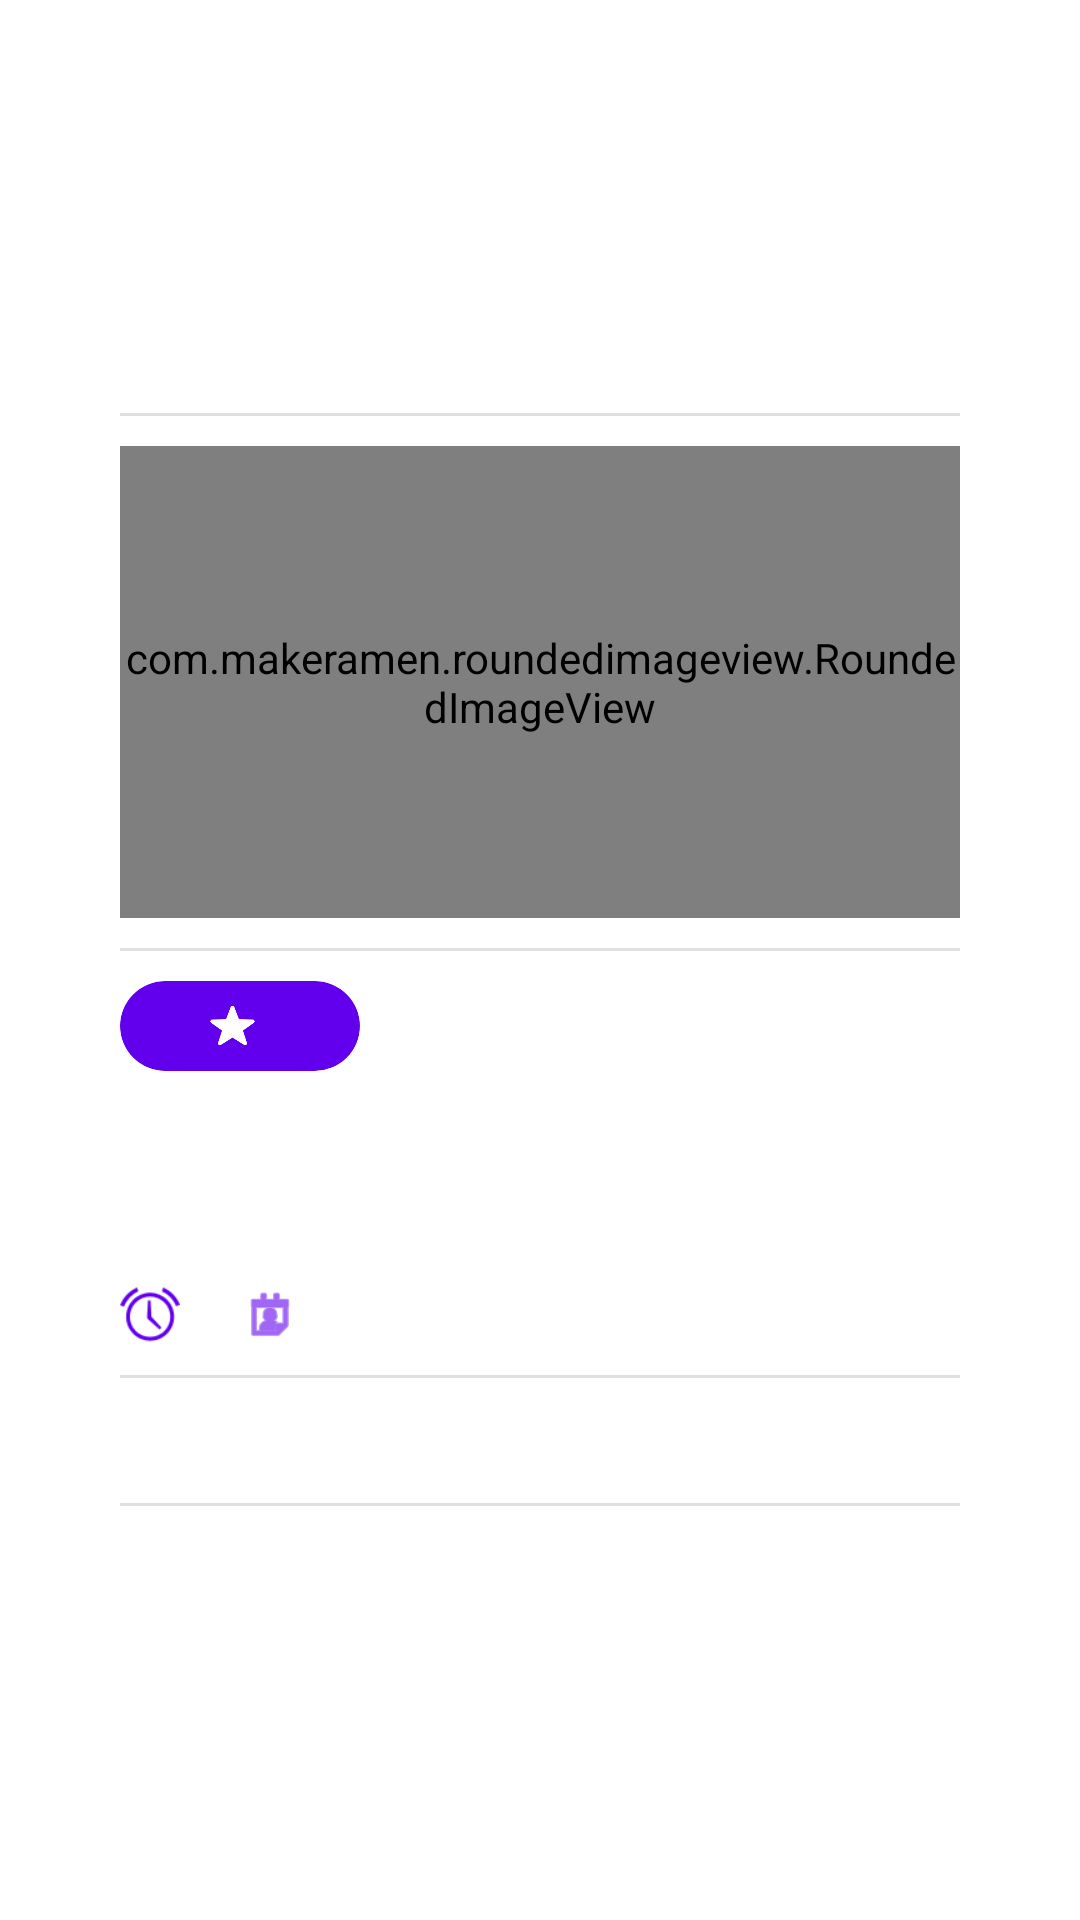

Screen size 1080 x 1920. Icon name, then its box in pixels as Rect(x1, y1, x2, y2):
calendar: Rect(250, 1292, 290, 1336)
lock idle alarm: Rect(120, 1287, 180, 1342)
star: Rect(210, 1006, 255, 1045)
